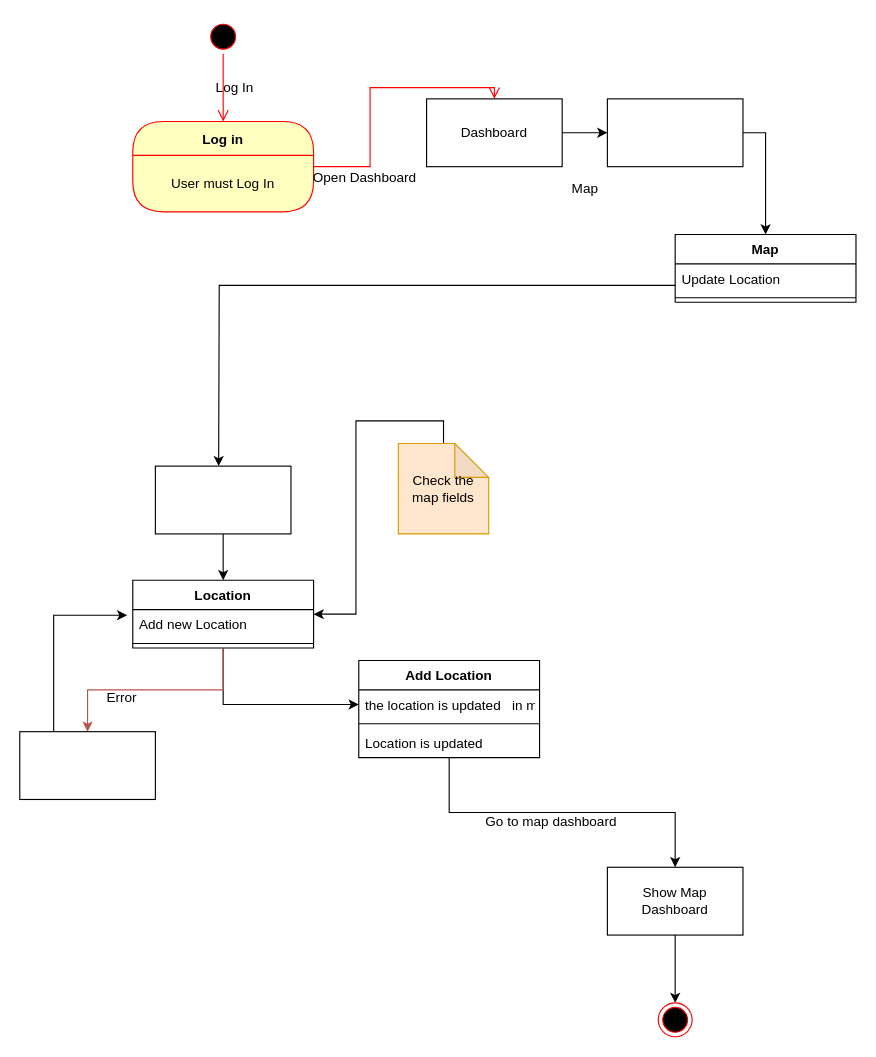
The diagram is 876 pixels wide and 1057 high, and some of its shapes have lost their labels. Here are the shapes that lost their labels. From the top down, the box of each, then its label:
(606, 98, 743, 167): Map Dashboard
(154, 465, 291, 534): Complete the Map Information form
(19, 731, 155, 799): Error Message
